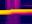Hotspot: (0, 9, 31, 14)
